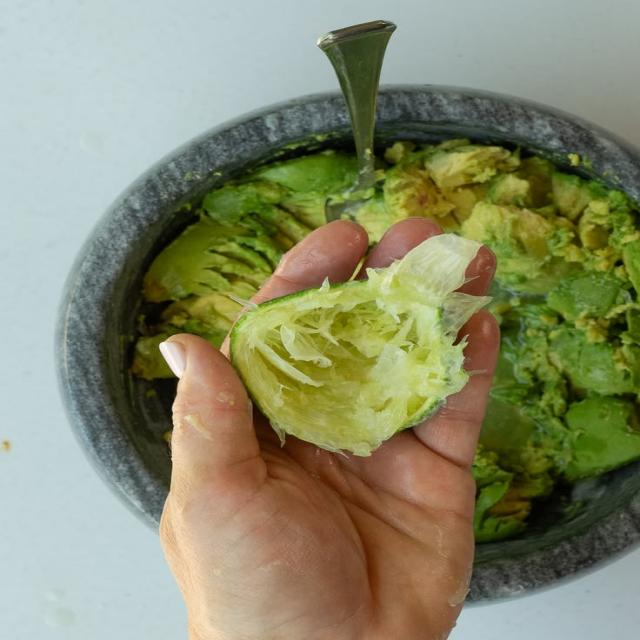avocado: (358, 137, 639, 542), (230, 235, 489, 455), (132, 146, 355, 380)
